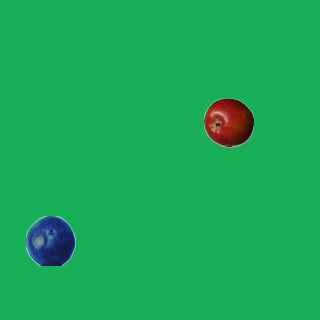Apple Braeburn: (203, 97, 253, 147)
Huckleberry: (25, 215, 75, 265)
